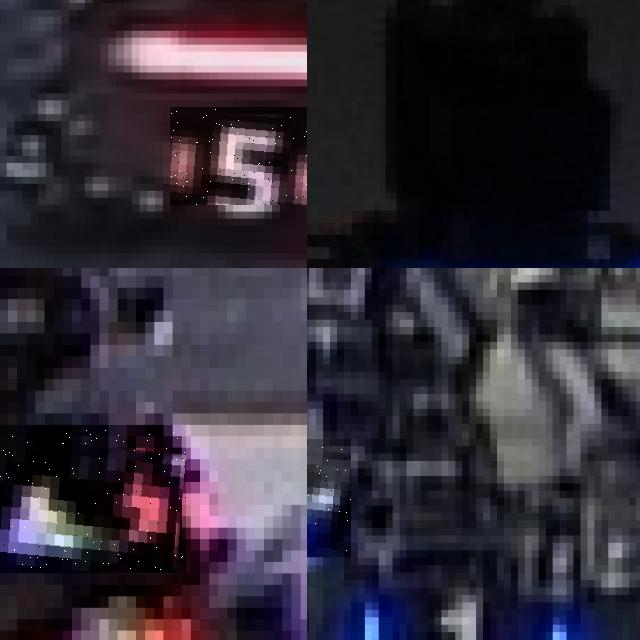B1: (330, 572, 573, 640), (307, 438, 351, 557)
R4: (0, 424, 186, 573), (0, 584, 209, 640)
R5: (170, 107, 307, 204)
